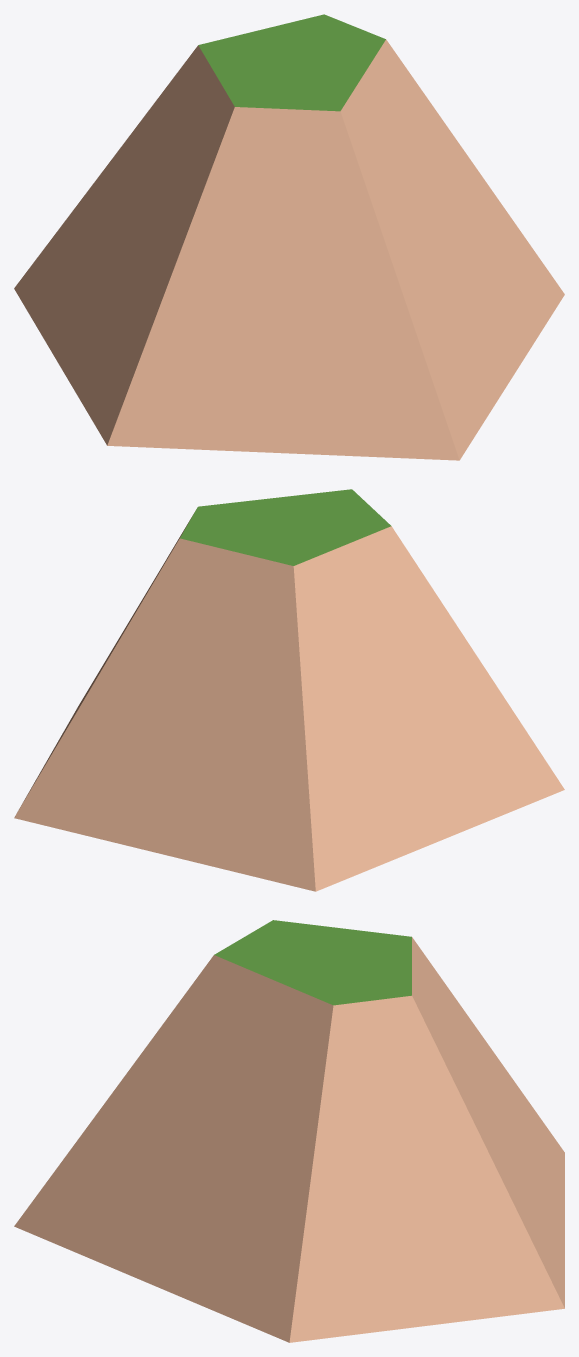
The model's file is rock-1.glb.
3 renders of one model, top to bottom at view 1: azimuth 30°, elevation 25°; view 2: azimuth 150°, elevation 25°; view 3: azimuth 270°, elevation 25°, orthographic. The views are drawn at different scales.
Parts seen in each view (by area): view 1: rock_smallA; view 2: rock_smallA; view 3: rock_smallA.
Boxes of the visible parts, x1,y1,x2,y2 form: rock_smallA: [14, 14, 564, 460]; rock_smallA: [14, 489, 564, 891]; rock_smallA: [14, 920, 564, 1342].
Size of the model in its own units: 0.9434 by 0.5 by 0.9434.
